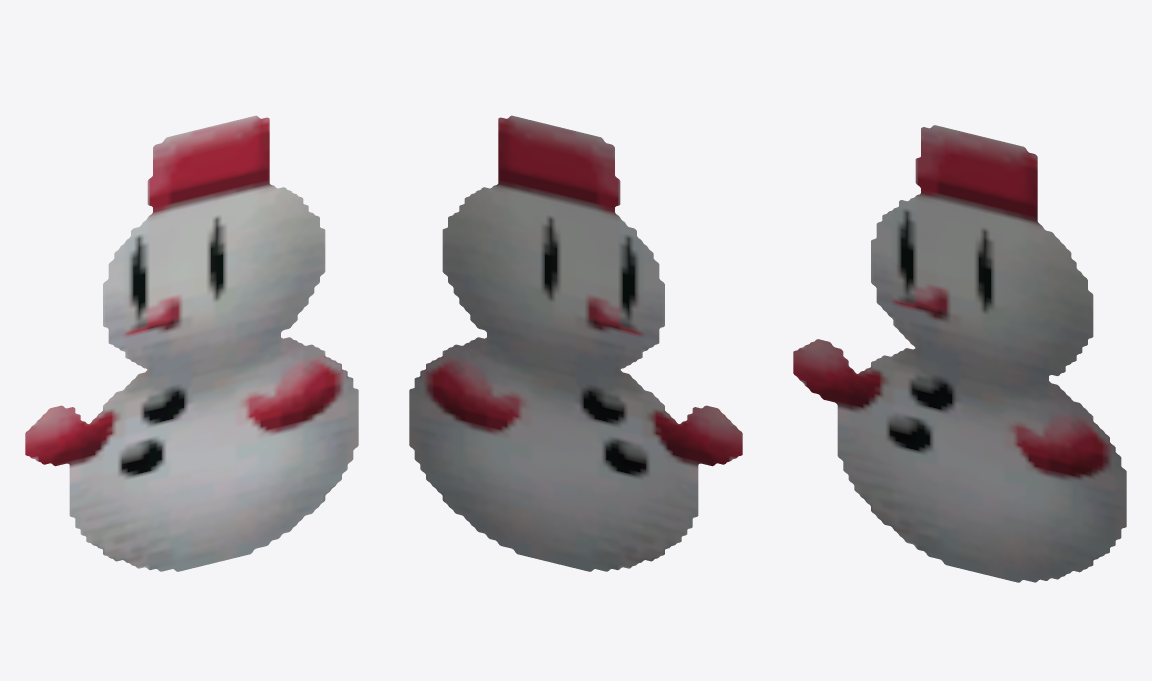
The model's file is snowman1.dae.
3 renders of one model, left to right at view 1: azimuth 30°, elevation 25°; view 2: azimuth 150°, elevation 25°; view 3: azimuth 330°, elevation 25°, orthographic.
Visible parts, largest first — view 1: n0b0; view 2: n0b0; view 3: n0b0.
Part boxes in pixels (bbox=[...]): n0b0: bbox=[25, 115, 358, 571]; n0b0: bbox=[409, 115, 742, 571]; n0b0: bbox=[793, 125, 1126, 582].
Size of the model in its own units: 640 by 973 by 0.
Materials: 1 (1 with a texture image).
